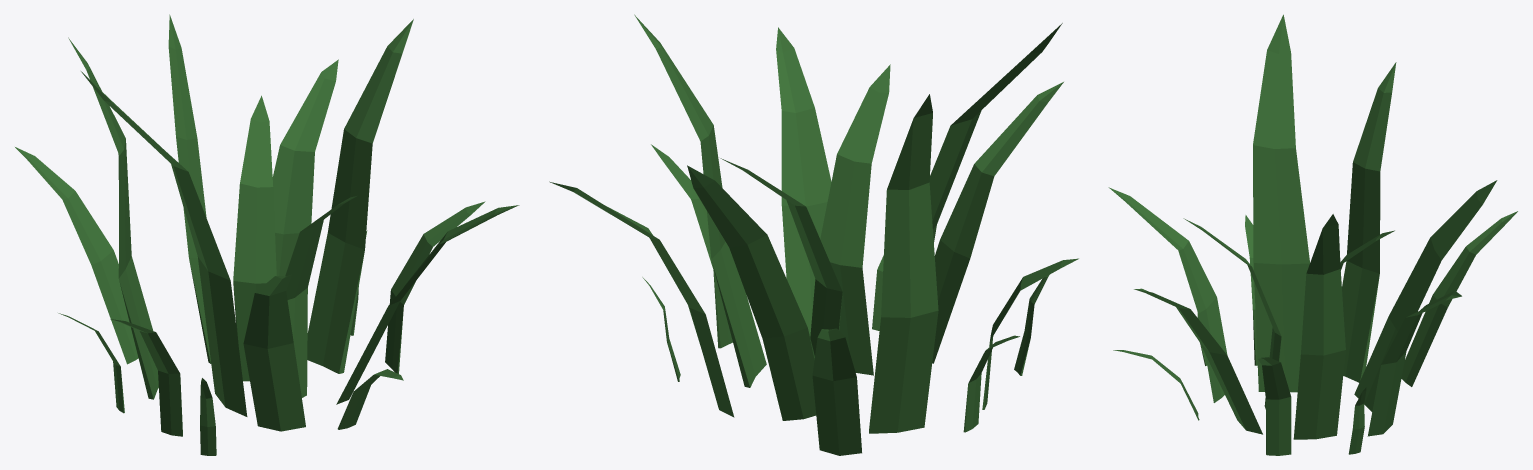
File: grass.fbx
The picture shows the model from 3 angles, left to right: view 1: azimuth 30°, elevation 25°; view 2: azimuth 150°, elevation 25°; view 3: azimuth 270°, elevation 25°; orthographic projection. The views are drawn at different scales.
Visible parts, largest first — view 1: Plane.007, Plane.003, Plane.002, Plane.011, Plane.009, Plane.016, Plane.010, Plane.005, Plane.006, Plane.013, Plane.012, Plane.004 (+3 smaller); view 2: Plane.010, Plane.005, Plane.006, Plane.004, Plane.011, Plane.007, Plane.016, Plane.003, Plane.002, Plane.009, Plane.013, Plane.012 (+3 smaller); view 3: Plane.002, Plane.007, Plane.010, Plane.005, Plane.011, Plane.016, Plane.009, Plane.004, Plane.013, Plane.006, Plane.015, Plane.012.
Part boxes in pixels (x1,y1,x2,y2): Plane.007: (307, 19, 413, 373); Plane.003: (233, 95, 276, 381); Plane.002: (81, 71, 247, 416); Plane.011: (243, 274, 305, 431); Plane.009: (272, 59, 338, 275); Plane.016: (15, 147, 138, 364); Plane.010: (68, 37, 158, 399); Plane.005: (168, 14, 211, 363); Plane.006: (285, 196, 356, 397); Plane.013: (385, 201, 485, 373); Plane.012: (110, 319, 182, 436); Plane.004: (336, 205, 519, 404); Plane.010: (869, 94, 938, 433); Plane.005: (687, 165, 816, 420); Plane.006: (820, 64, 890, 375); Plane.004: (776, 27, 831, 336); Plane.011: (932, 82, 1063, 363); Plane.007: (634, 14, 766, 387); Plane.016: (812, 328, 861, 455); Plane.003: (720, 158, 842, 355); Plane.002: (929, 23, 1062, 242); Plane.009: (549, 181, 734, 417); Plane.013: (651, 144, 732, 348); Plane.012: (982, 258, 1078, 409); Plane.002: (1253, 14, 1309, 392); Plane.007: (1293, 214, 1345, 439); Plane.010: (1342, 62, 1396, 382); Plane.005: (1354, 180, 1497, 411); Plane.011: (1108, 187, 1227, 402); Plane.016: (1401, 211, 1517, 386); Plane.009: (1367, 291, 1461, 436); Plane.004: (1134, 288, 1262, 434); Plane.013: (1258, 357, 1291, 455); Plane.006: (1183, 218, 1281, 409); Plane.015: (1348, 387, 1366, 454); Plane.012: (1245, 215, 1257, 365).
Size of the model in its own units: 146 by 134 by 157.
